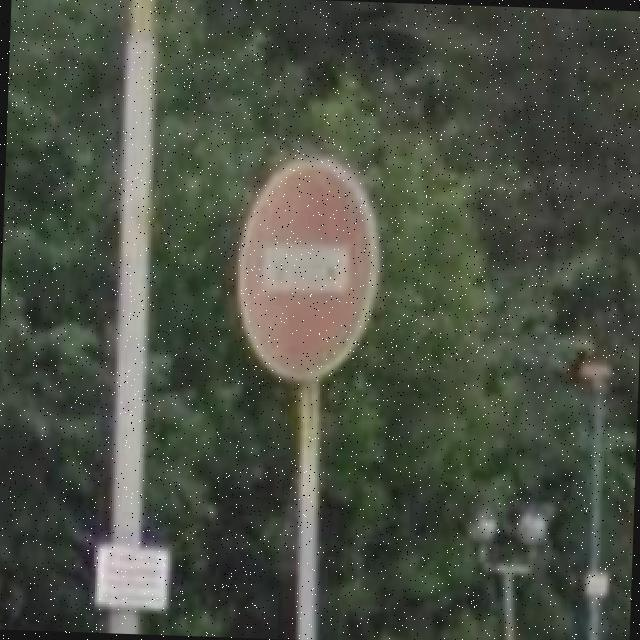Zakaz wjazdu: (232, 153, 386, 385)
